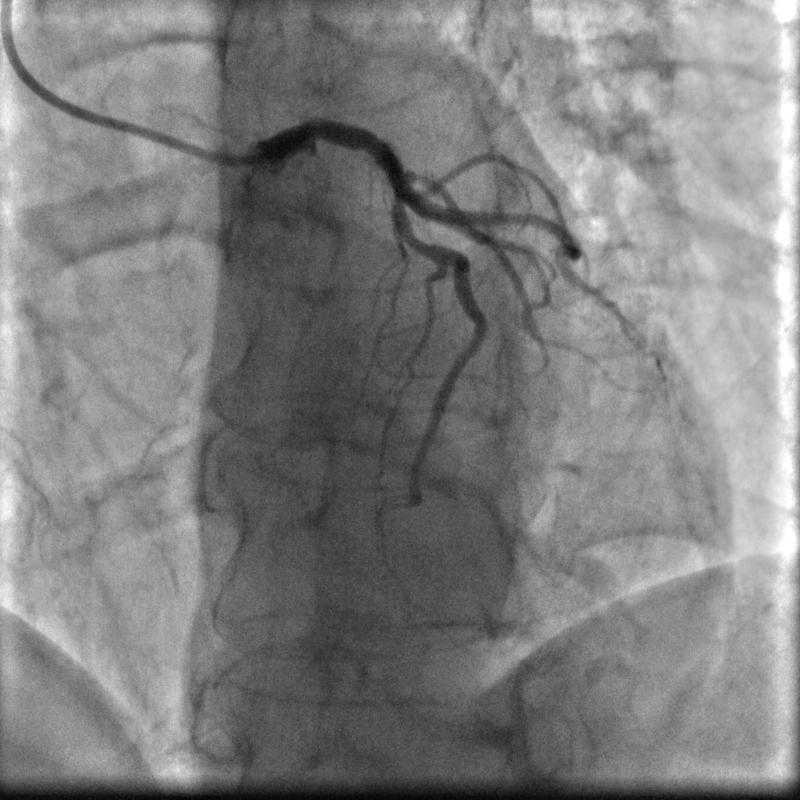Stenosis: (395, 226, 430, 248)
